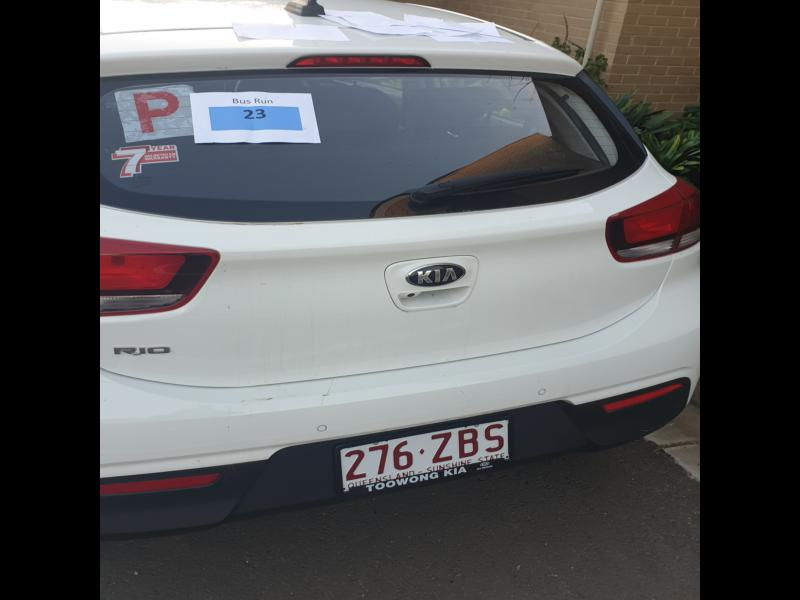BusRun: (207, 105, 304, 133)
PlateNo: (341, 418, 510, 495)
